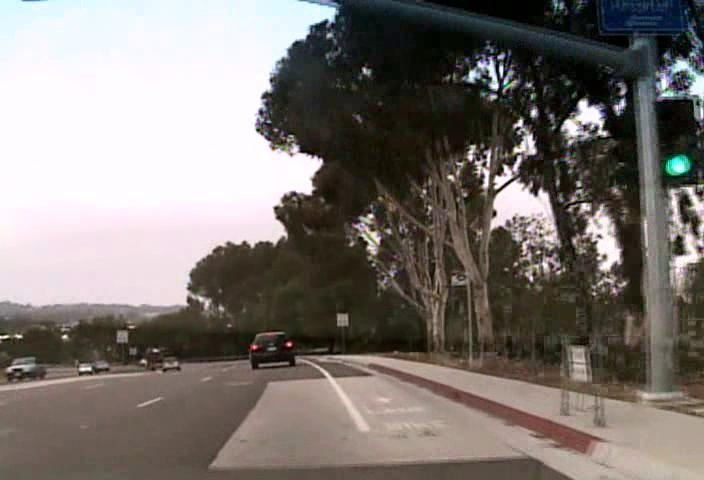speedLimitUrdbl: (336, 312, 348, 326)
